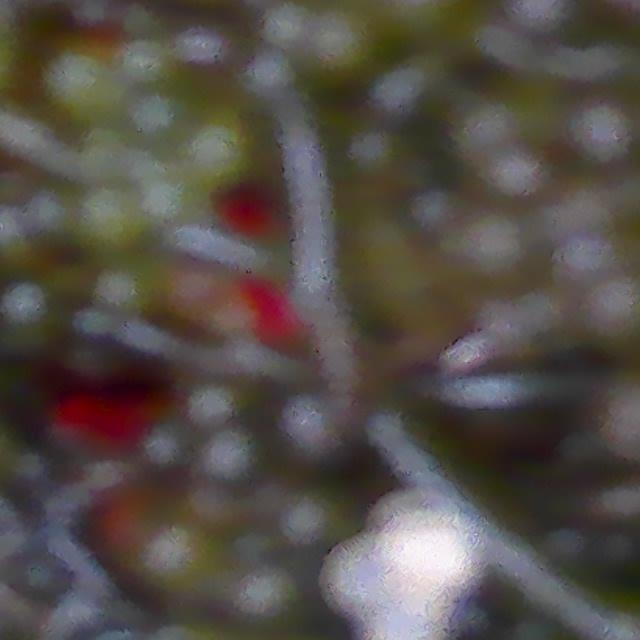SeaGrape: (457, 215, 552, 304), (557, 99, 640, 189), (464, 148, 553, 220), (44, 44, 121, 121), (391, 516, 466, 588), (581, 267, 640, 346), (309, 8, 373, 74), (328, 557, 391, 624)
